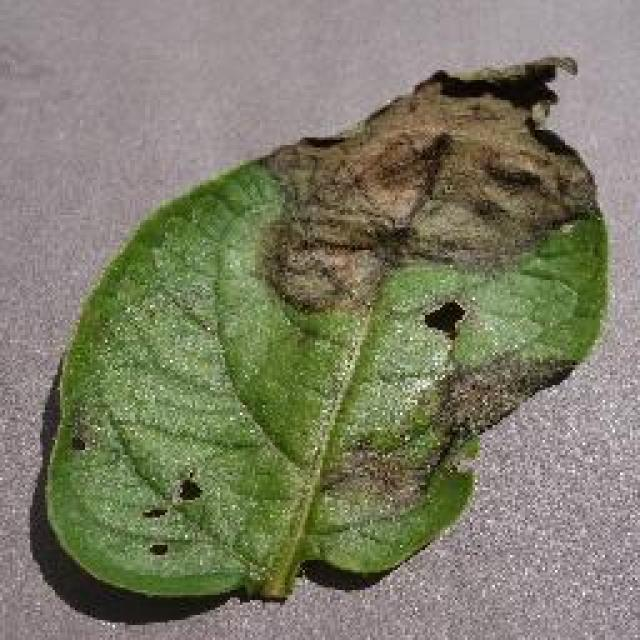late_blight: (40, 50, 612, 605)
